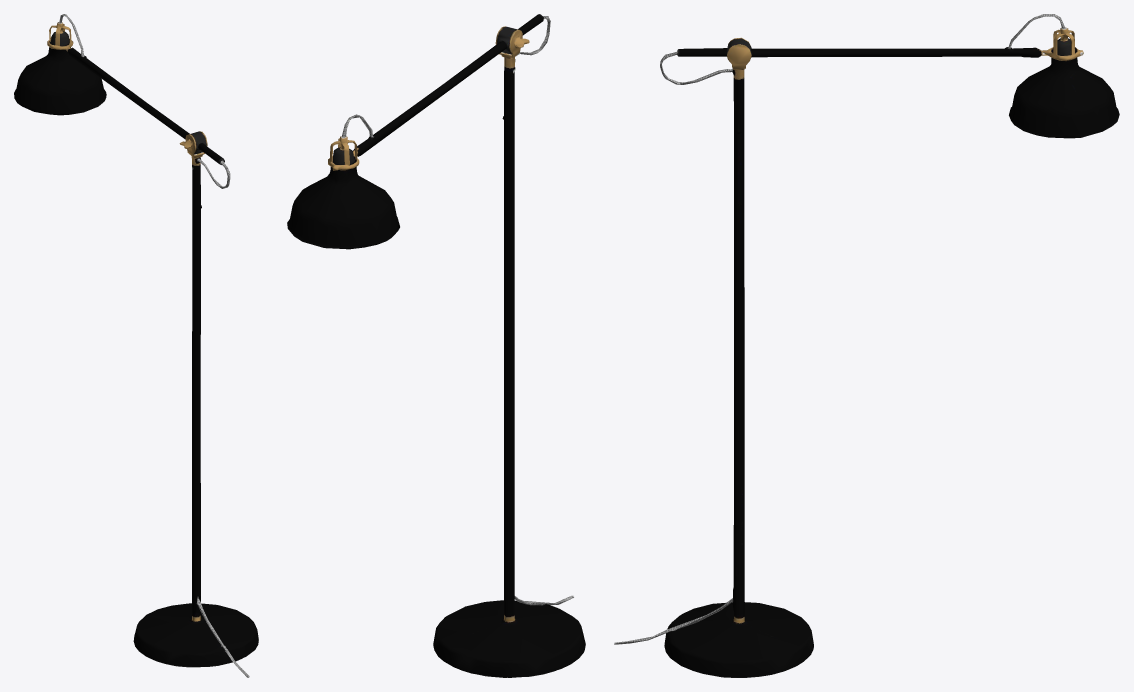
The model's file is RANARP floor lamp.glb.
3 views of the same model, side by side, from view 1: azimuth 30°, elevation 25°; view 2: azimuth 150°, elevation 25°; view 3: azimuth 270°, elevation 25° (orthographic). The views are drawn at different scales.
Visible parts, largest first — view 1: ProcessedMeshNode; view 2: ProcessedMeshNode; view 3: ProcessedMeshNode.
Boxes of the visible parts, bbox=[...] form: ProcessedMeshNode: bbox=[14, 14, 258, 677]; ProcessedMeshNode: bbox=[287, 14, 585, 677]; ProcessedMeshNode: bbox=[614, 14, 1119, 677].
Size of the model in its own units: 0.2805 by 1.31 by 0.95.
Materials: 1 (1 with a texture image).
